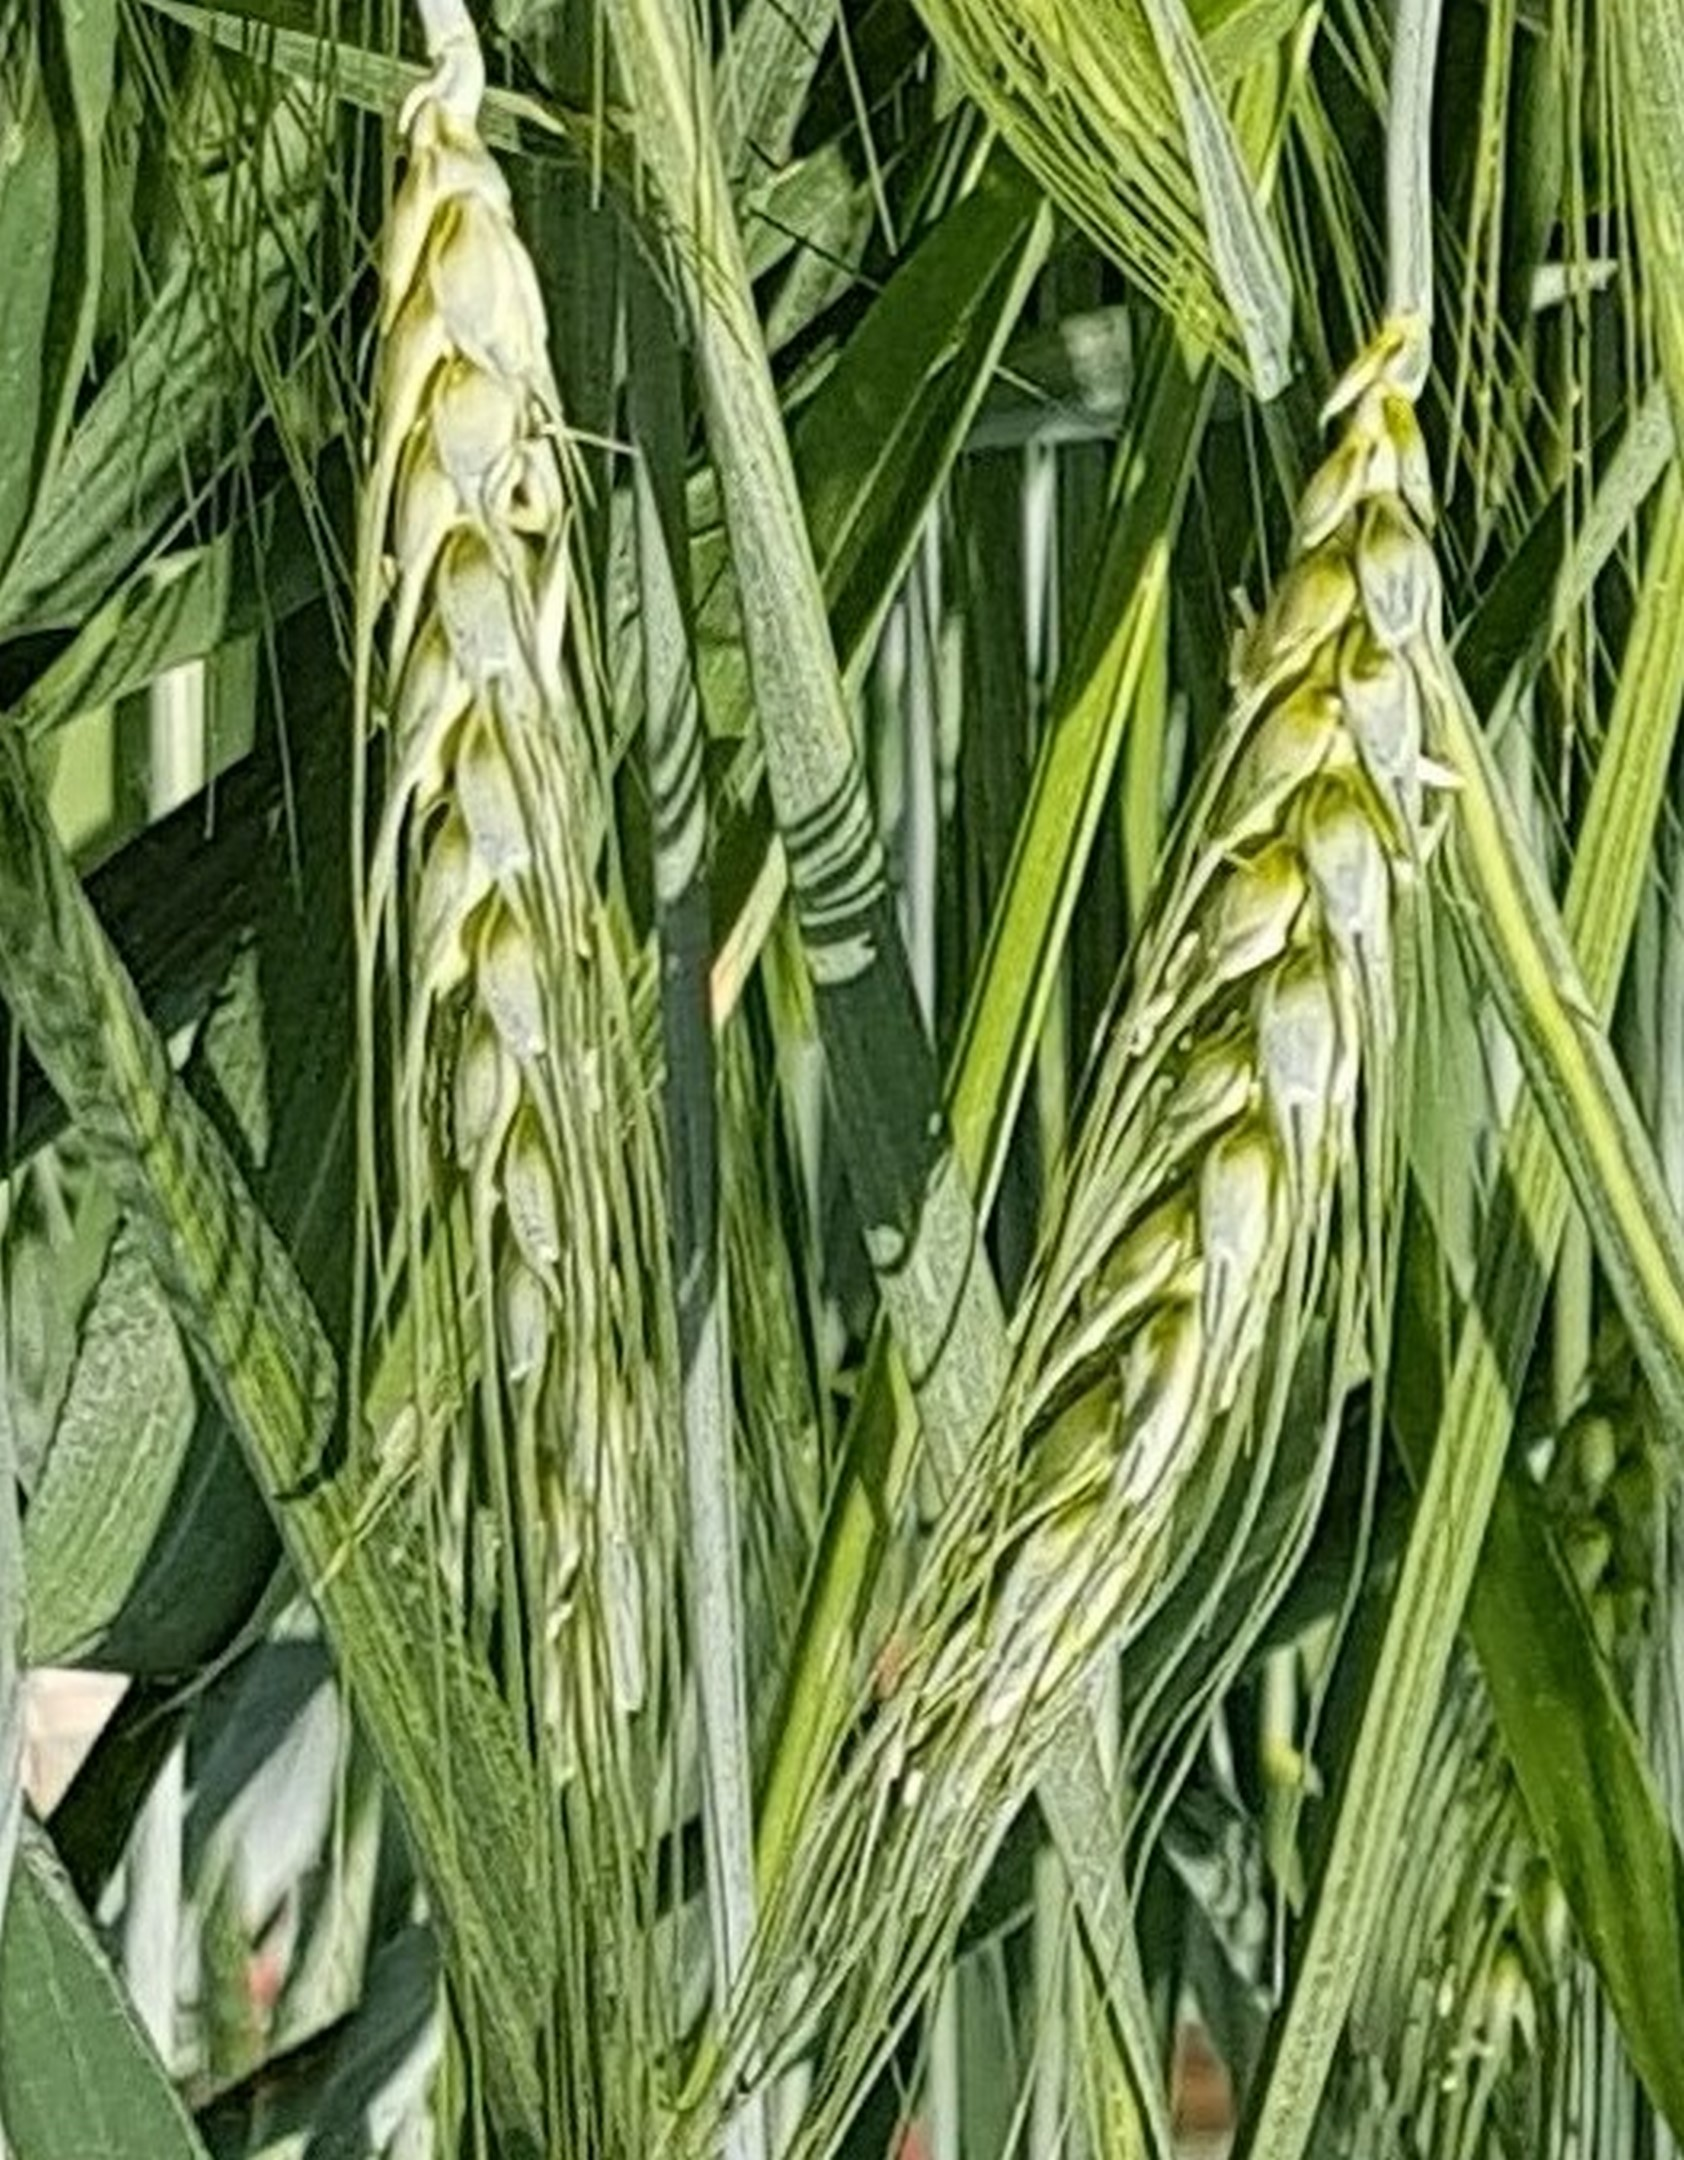Healthy Wheat: (957, 382, 1498, 1632), (321, 160, 678, 1211)
